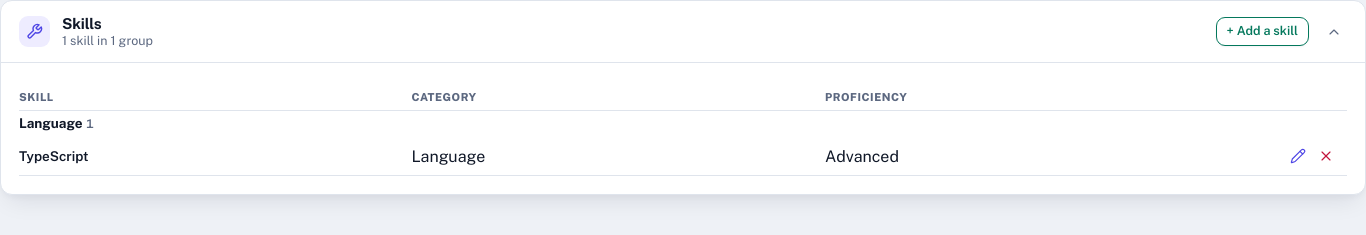
Test: SkillsSection save reliability › Done fails and the row stays editable with an error shown
The width and height of the screenshot is (1366, 235).
Click the button named "Edit TypeScript": (1298, 156) [1285, 143, 1311, 169]
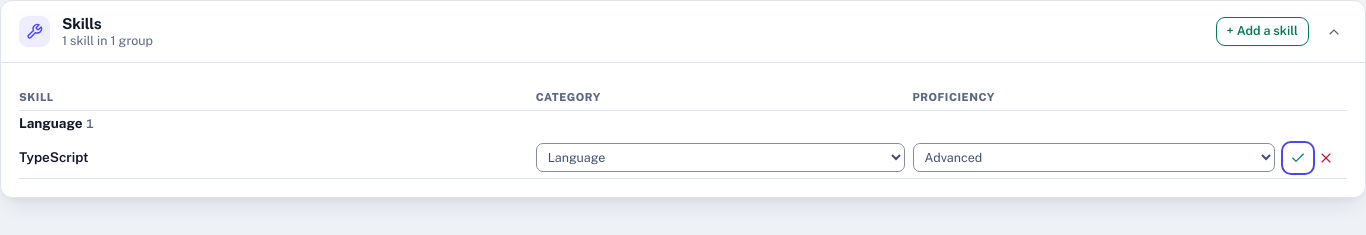
Click the button named "Done editing TypeScript": (1298, 158) [1285, 144, 1311, 170]
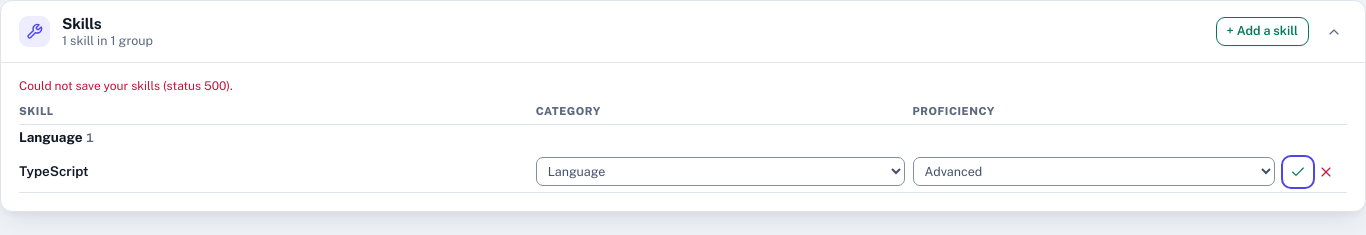
Check: the field named "Skill" is shown, box [19, 161, 528, 182]
Check: the message "Could not save your skills (status 500)." is shown, box [19, 79, 233, 93]
